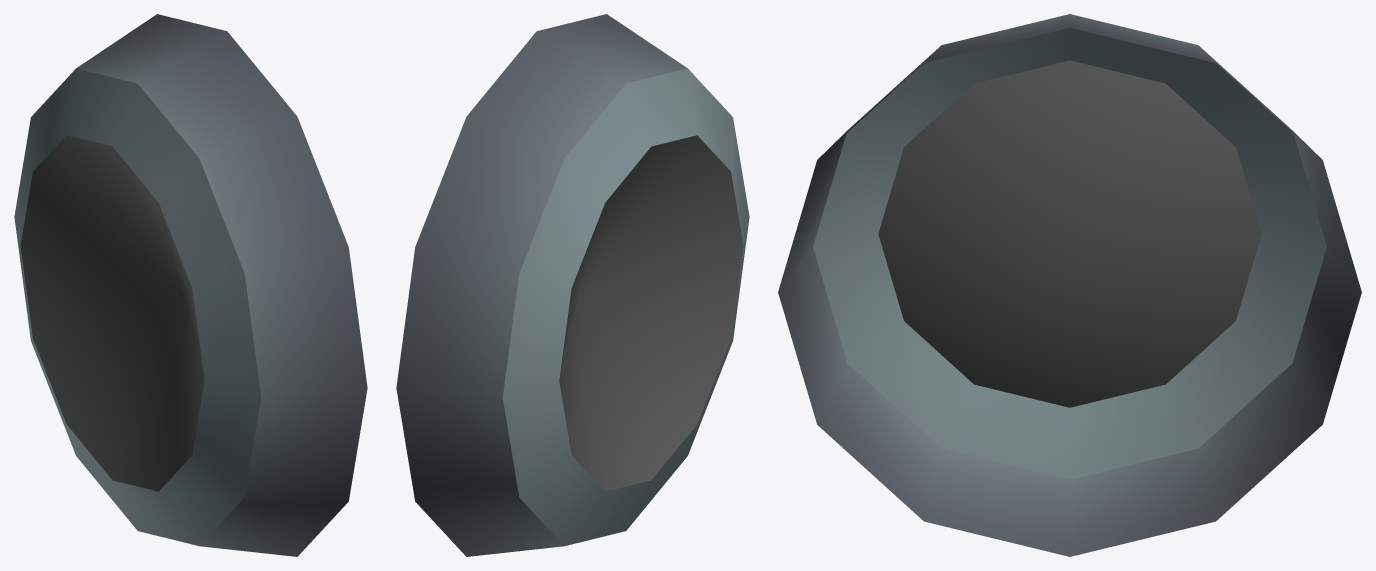
The model's file is robot_arm.fbx.
3 renders of one model, left to right at view 1: azimuth 30°, elevation 25°; view 2: azimuth 150°, elevation 25°; view 3: azimuth 270°, elevation 25°, orthographic. The views are drawn at different scales.
Visible parts, largest first — view 1: Cylinder.008; view 2: Cylinder.008; view 3: Cylinder.008.
Boxes of the visible parts, box(x1,y1,x2,y2) form: Cylinder.008: box(14, 14, 367, 556); Cylinder.008: box(396, 14, 749, 556); Cylinder.008: box(778, 14, 1361, 556).
Size of the model in its own units: 0.0162 by 0.0687 by 0.0687.
